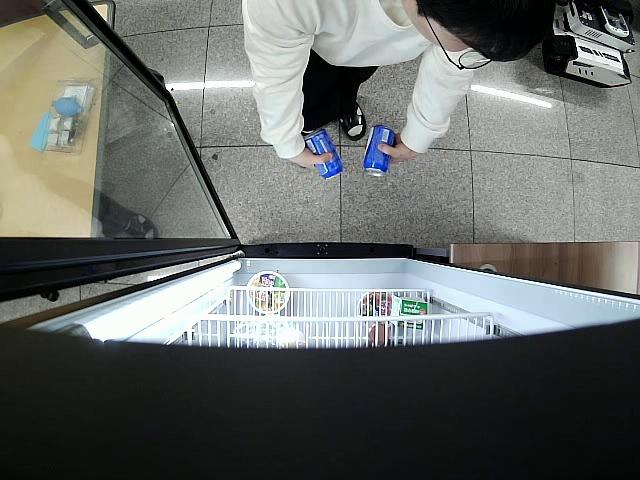00_hand: (376, 130, 419, 165), (287, 145, 334, 171)
13_pocariSweat: (306, 129, 345, 180), (363, 125, 395, 175)
